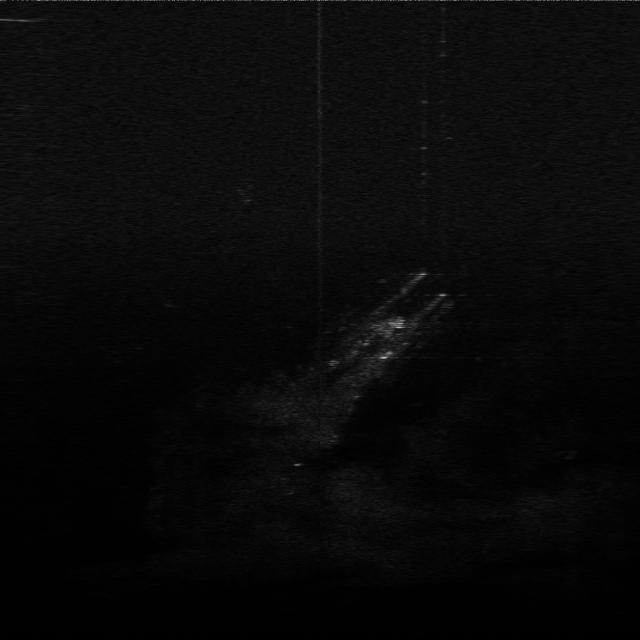rov: (386, 315, 410, 332)
